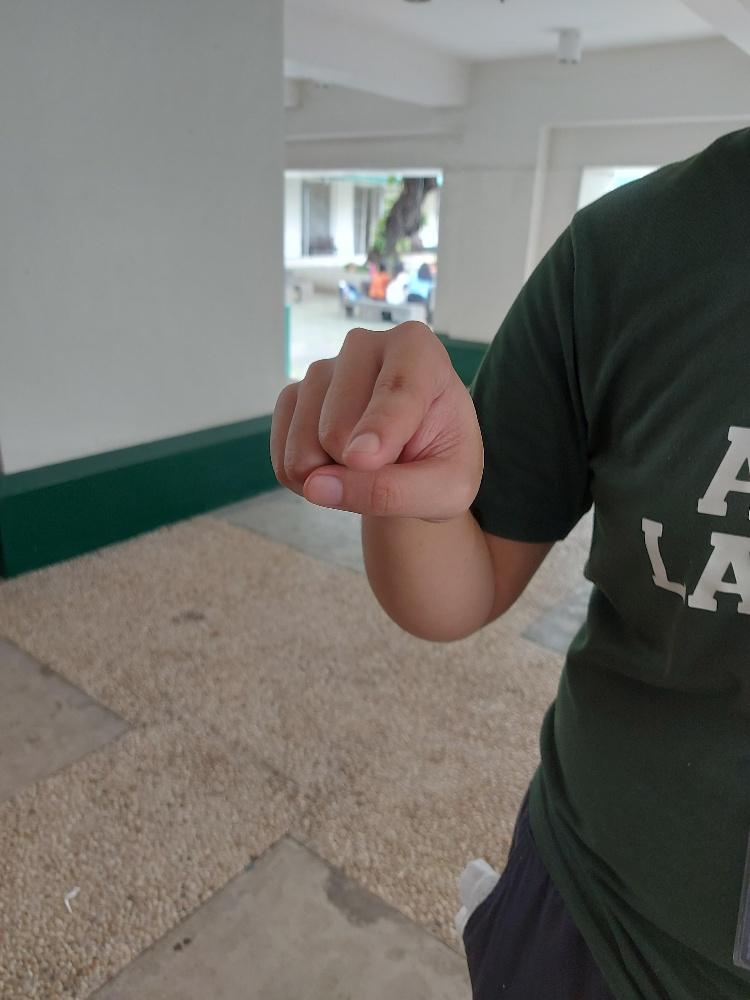z: (265, 314, 490, 526)
